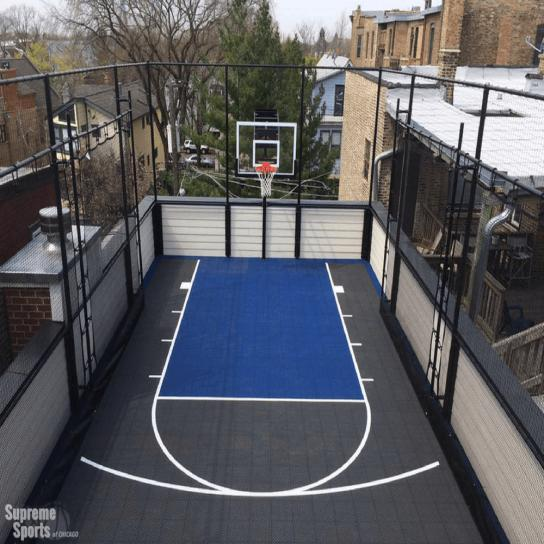basketball-hoop: (254, 166, 278, 196)
